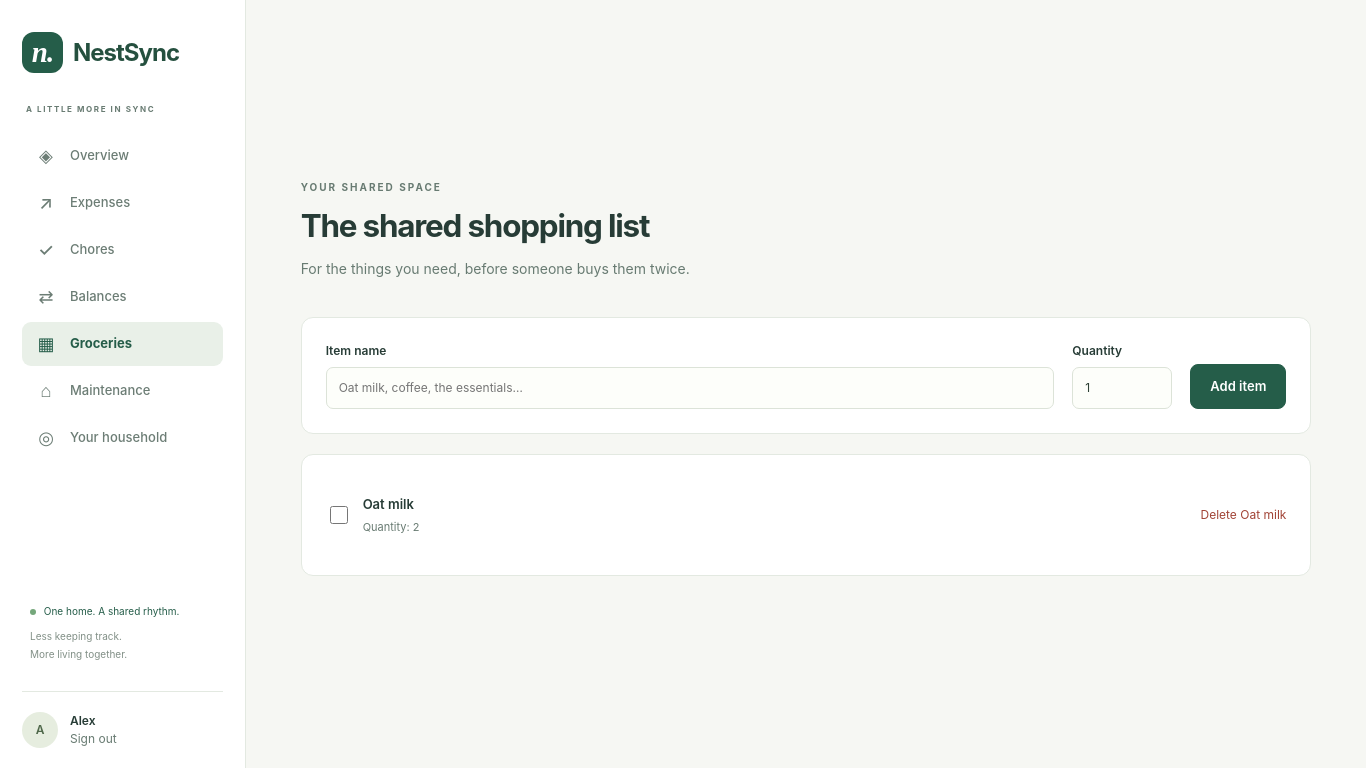
reports grocery errors without losing the form
Type "Bread" into the field labelled "Item name". click: coordinates (690, 388)
box: [326,367,1054,409]
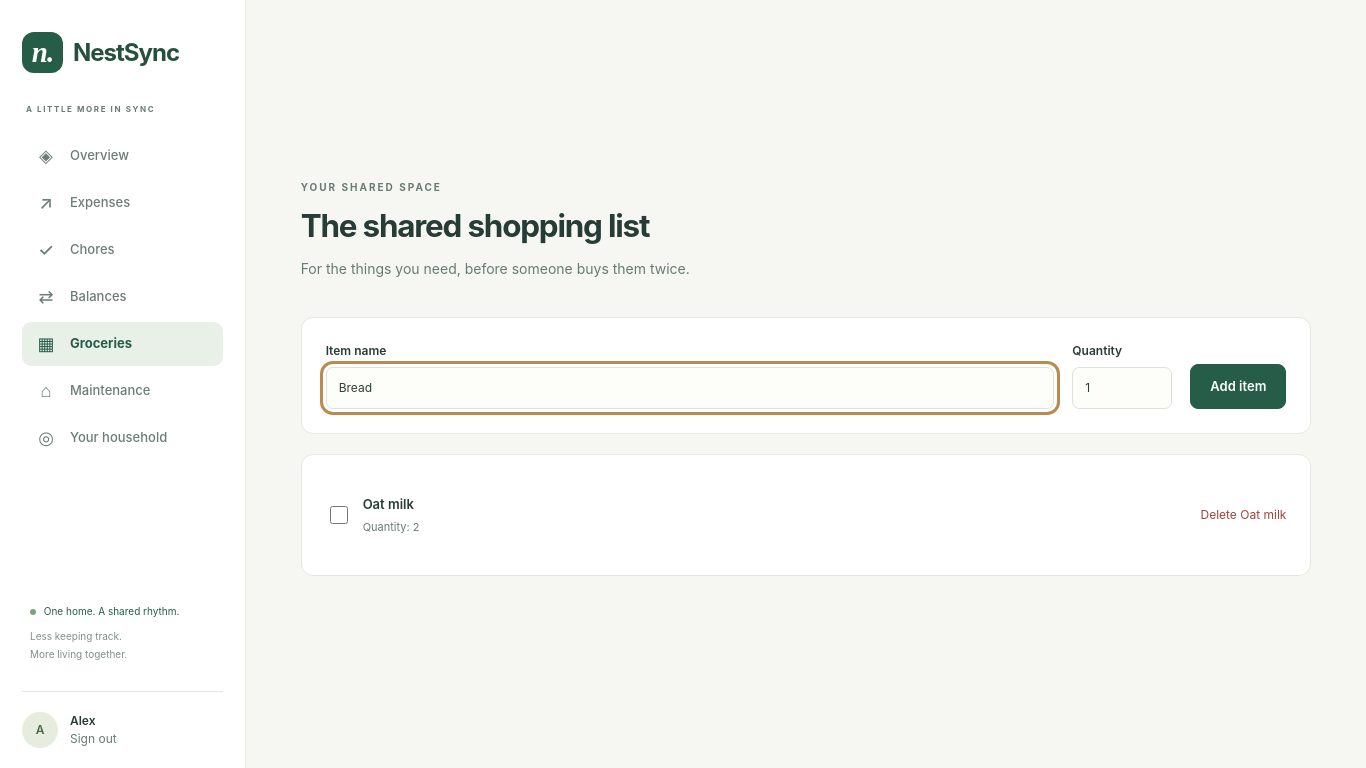
Click the button "Add item". click: coordinates (1238, 386)
box: [1190,364,1286,409]
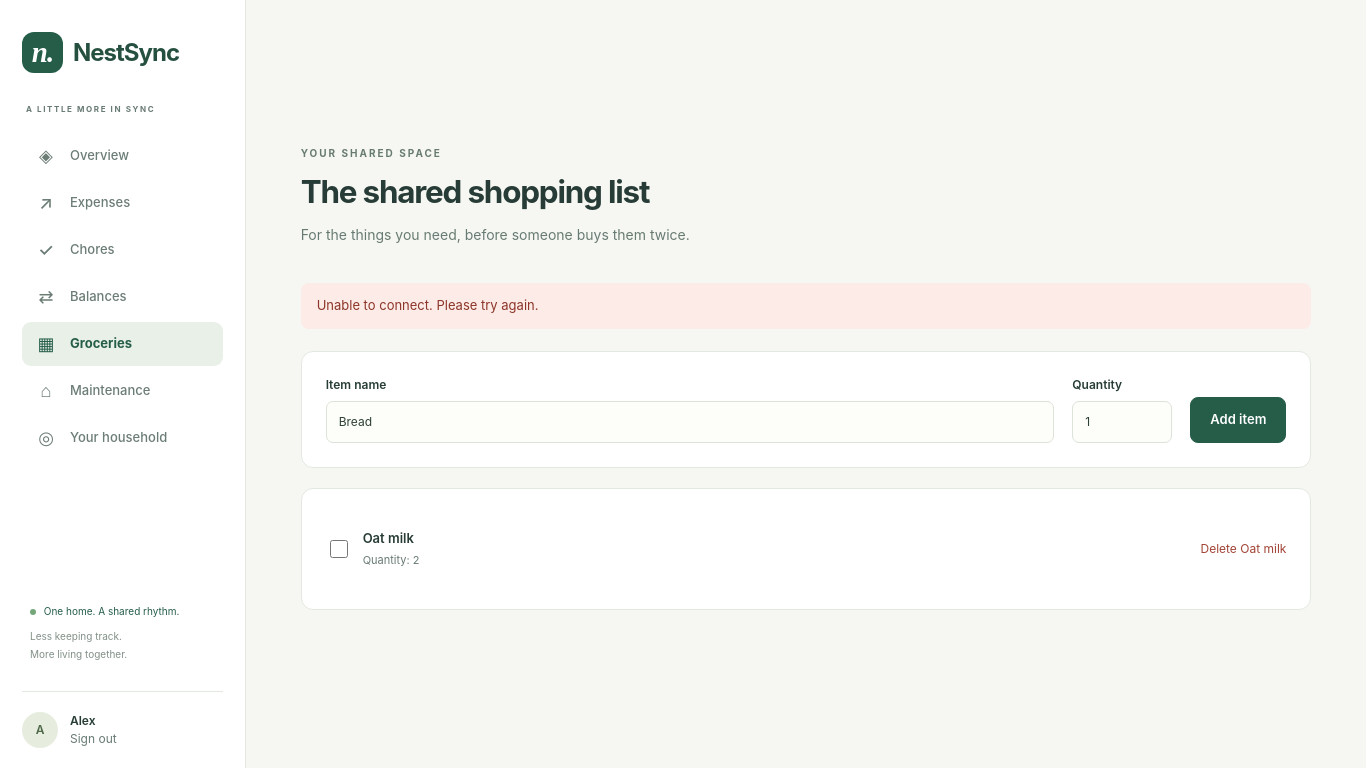
Expected: the message "Unable to connect. Please try again." is shown, [301,283,1311,329]
